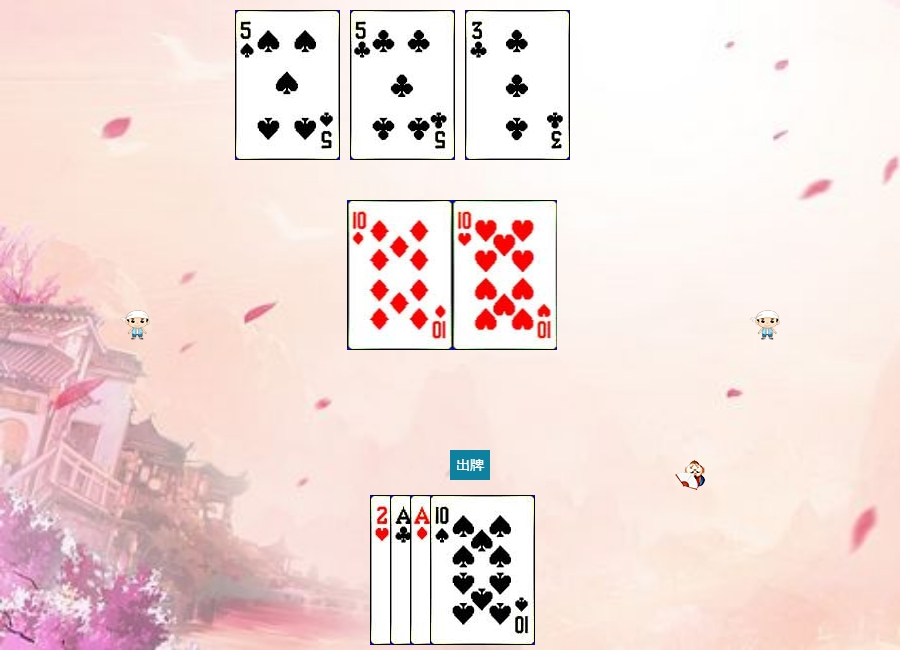10~1: (348, 200, 453, 350)
10~3: (453, 200, 558, 350)
10~4: (430, 495, 535, 645)
14~1: (410, 495, 515, 645)
14~2: (390, 495, 495, 645)
15~3: (370, 495, 475, 645)
3~2: (465, 10, 570, 160)
5~2: (350, 10, 455, 160)
5~4: (235, 10, 340, 160)
